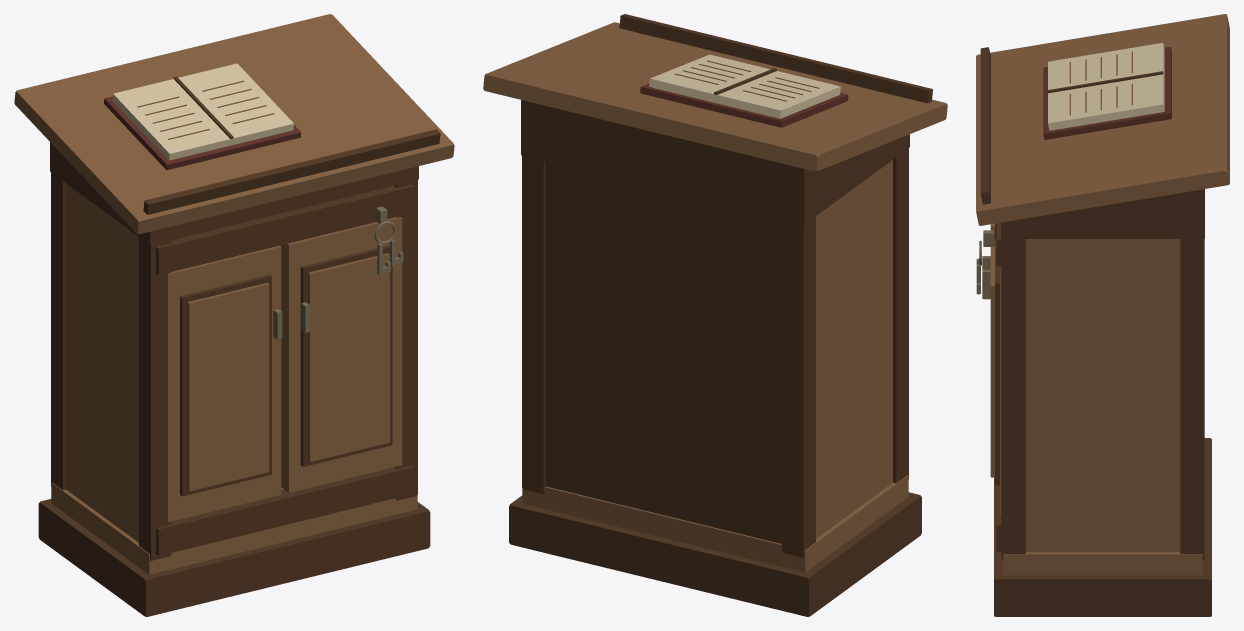
The model's file is SM_StorageAccessDesk.fbx.
3 renders of one model, left to right at view 1: azimuth 30°, elevation 25°; view 2: azimuth 150°, elevation 25°; view 3: azimuth 270°, elevation 25°, orthographic. The views are drawn at different scales.
Visible parts, largest first — view 1: SM_StorageAccessDesk; view 2: SM_StorageAccessDesk; view 3: SM_StorageAccessDesk.
Part boxes in pixels (<box>): SM_StorageAccessDesk: <box>14,14,454,616</box>; SM_StorageAccessDesk: <box>483,14,947,616</box>; SM_StorageAccessDesk: <box>976,14,1229,616</box>.
Size of what is drawn, in the model's own units: 80 by 54.74 by 109.
